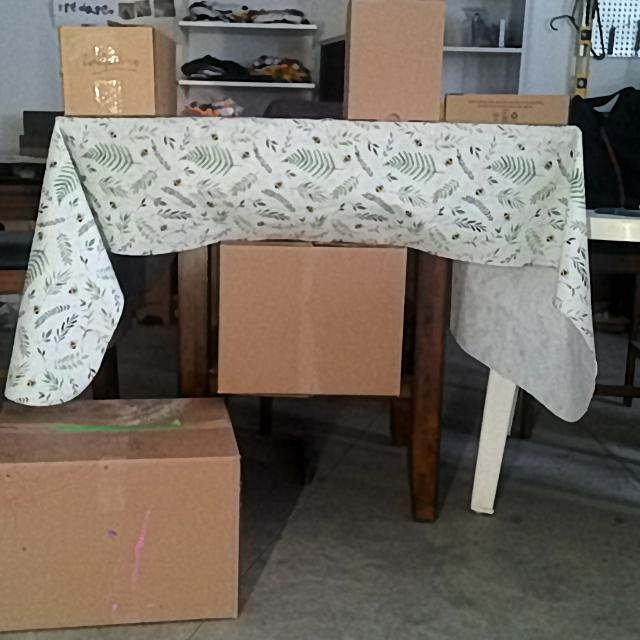box: (0, 455, 241, 624), (221, 247, 402, 397), (351, 0, 440, 120), (61, 26, 154, 116), (446, 96, 569, 122)
